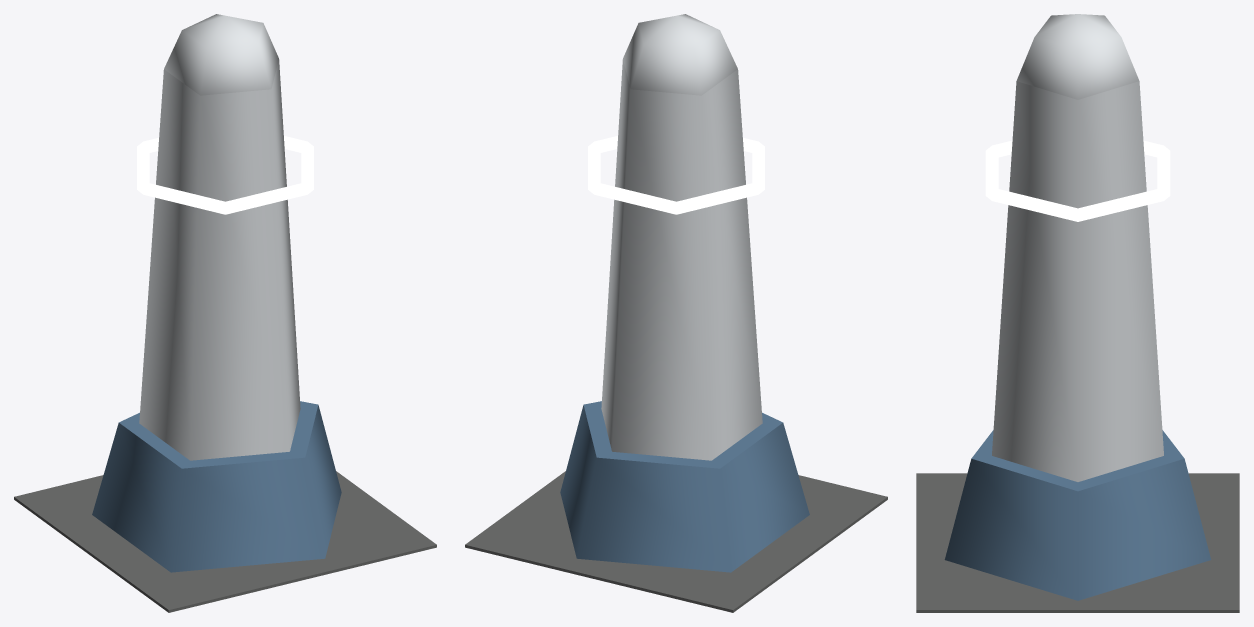
Rendered from bld_special_command_center_a10_lod2.glb.
3 views of the same model, side by side, from view 1: azimuth 30°, elevation 25°; view 2: azimuth 150°, elevation 25°; view 3: azimuth 270°, elevation 25° (orthographic). The views are drawn at different scales.
Parts seen in each view (by area): view 1: body; view 2: body; view 3: body.
Boxes of the visible parts, x1,y1,x2,y2 form: body: [14, 14, 436, 612]; body: [465, 14, 887, 612]; body: [916, 14, 1239, 612].
Size of the model in its own units: 15 by 27.15 by 15.
